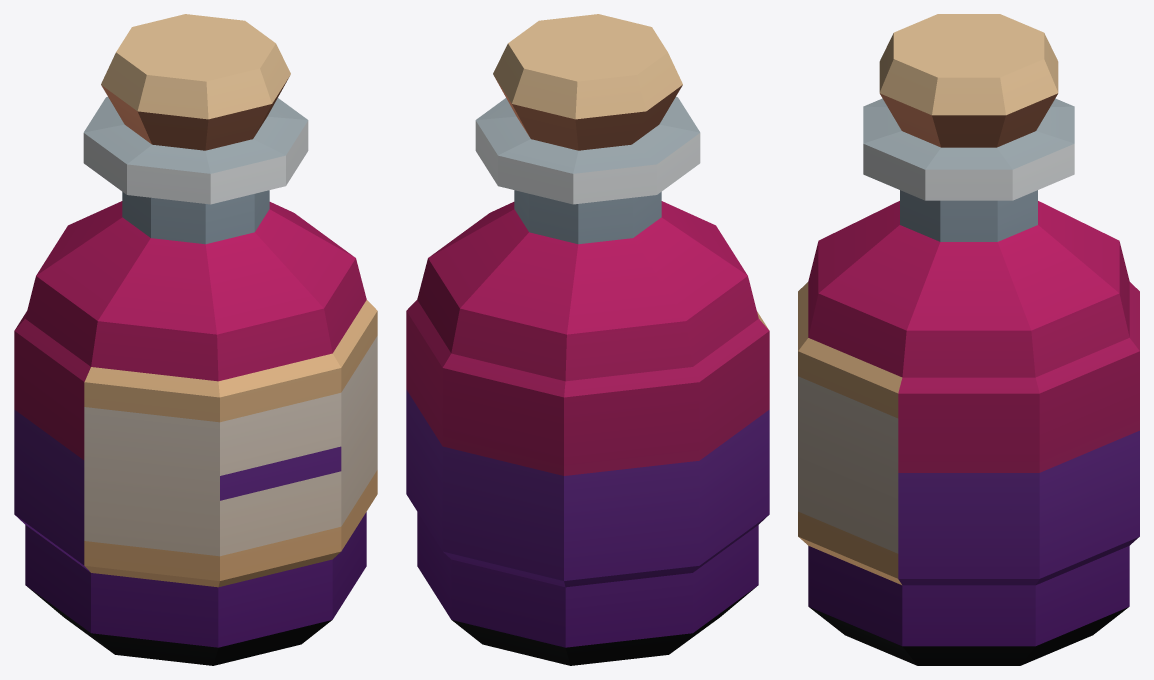
The model's file is source.glb.
3 views of the same model, side by side, from view 1: azimuth 30°, elevation 25°; view 2: azimuth 150°, elevation 25°; view 3: azimuth 270°, elevation 25° (orthographic).
Parts seen in each view (by area): view 1: model; view 2: model; view 3: model.
Boxes of the visible parts, bbox=[...] form: model: bbox=[14, 14, 377, 665]; model: bbox=[406, 14, 769, 665]; model: bbox=[798, 14, 1139, 665].
Bounding box in the file's own units: 0.48 × 0.88 × 0.48.
Materials: 1 (1 with a texture image).
